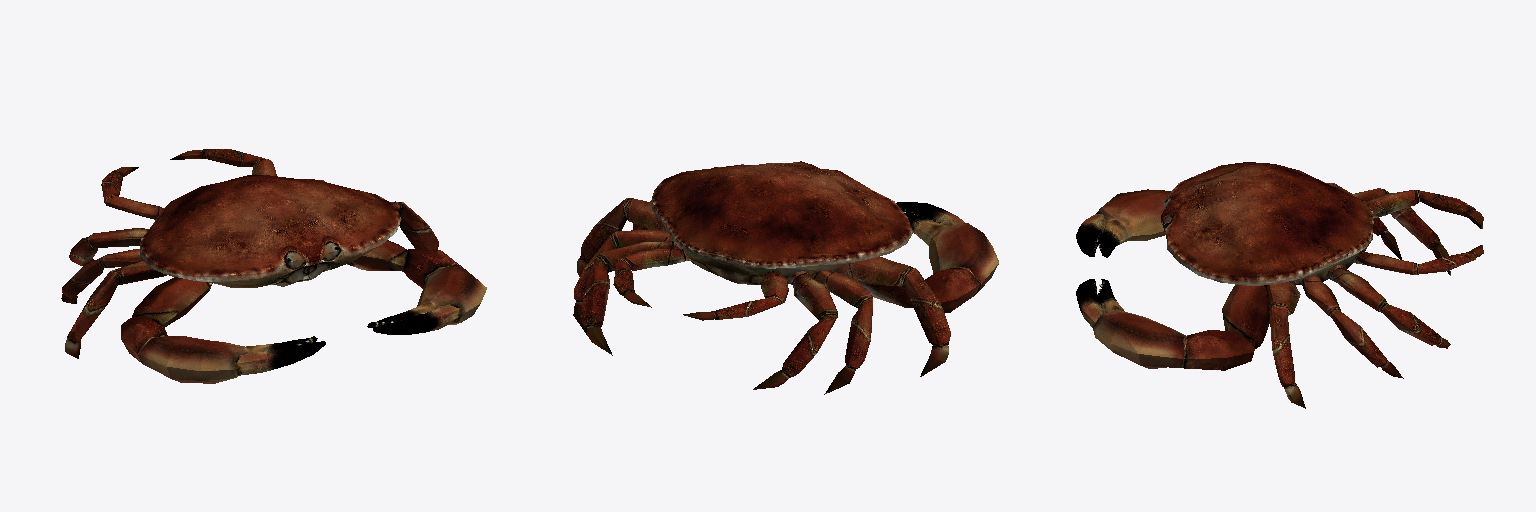
3 renders of one model, left to right at view 1: azimuth 30°, elevation 25°; view 2: azimuth 150°, elevation 25°; view 3: azimuth 270°, elevation 25°, orthographic.
Size of the model in its own units: 0.7968 by 0.297 by 0.7567.
1 materials, 1 textured.